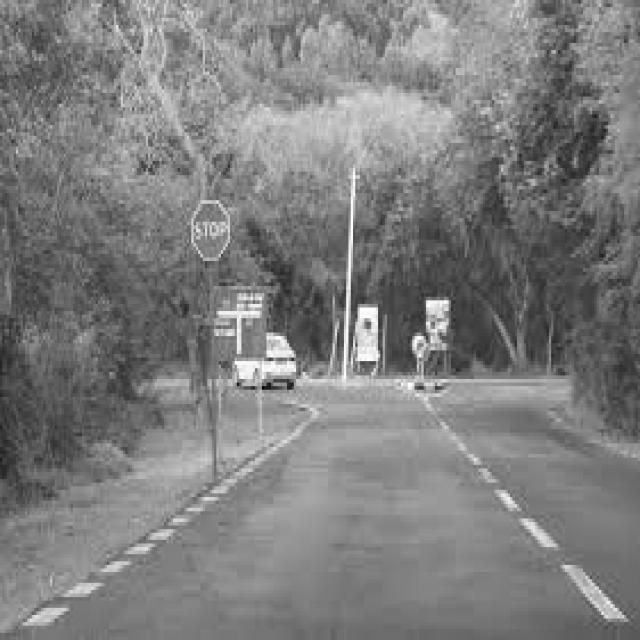stop sign: (192, 199, 232, 263)
